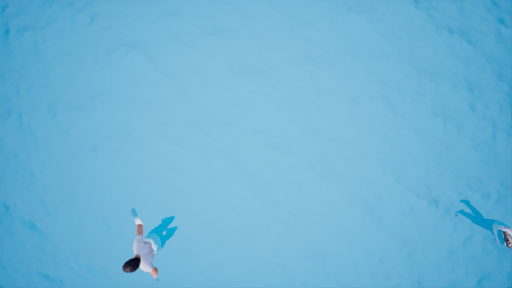person: (117, 199, 178, 274), (438, 193, 512, 248)
